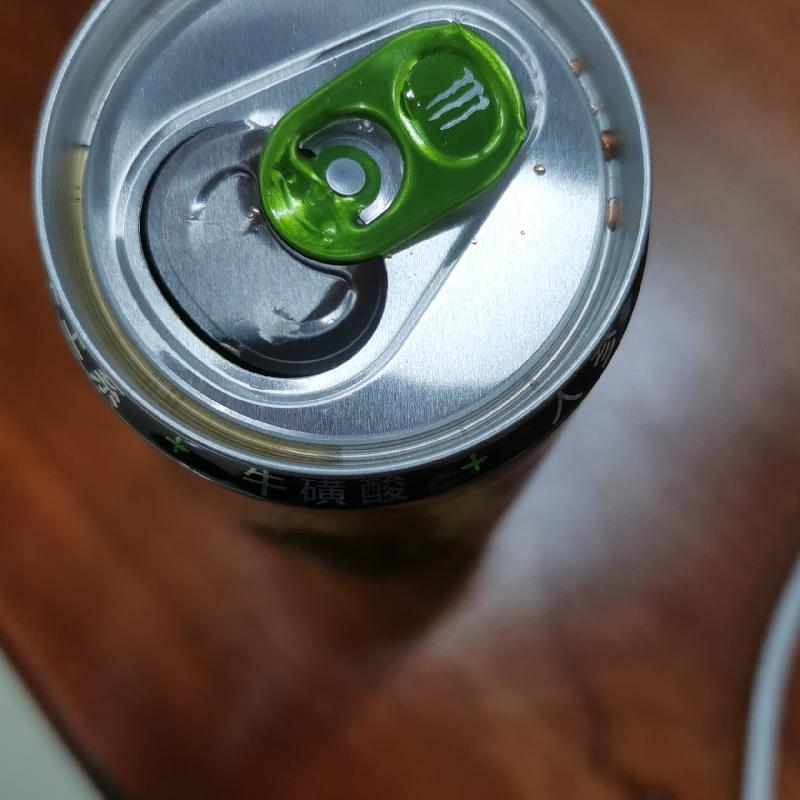cans: (35, 0, 652, 521)
